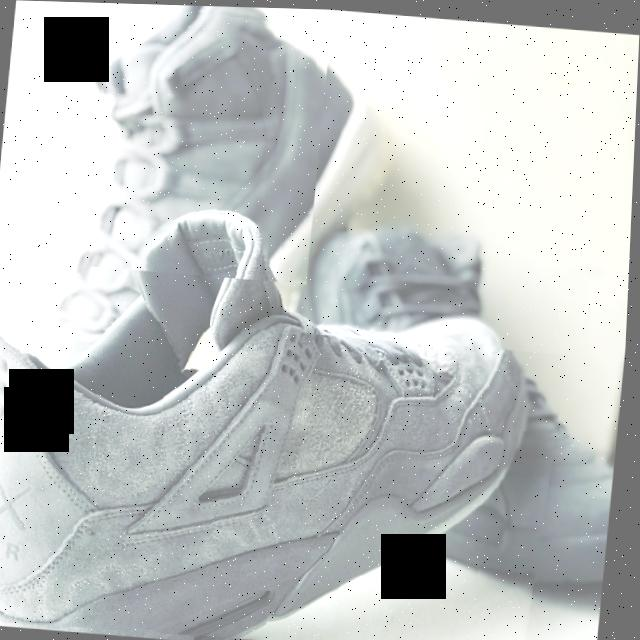shoe: (0, 308, 572, 640), (82, 2, 332, 283)
